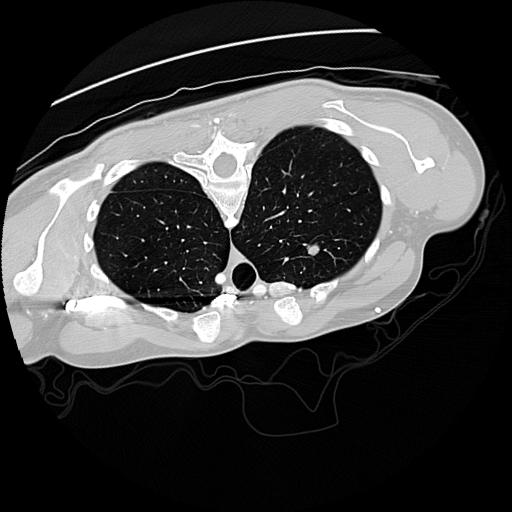nodule: (304, 239, 325, 260)
